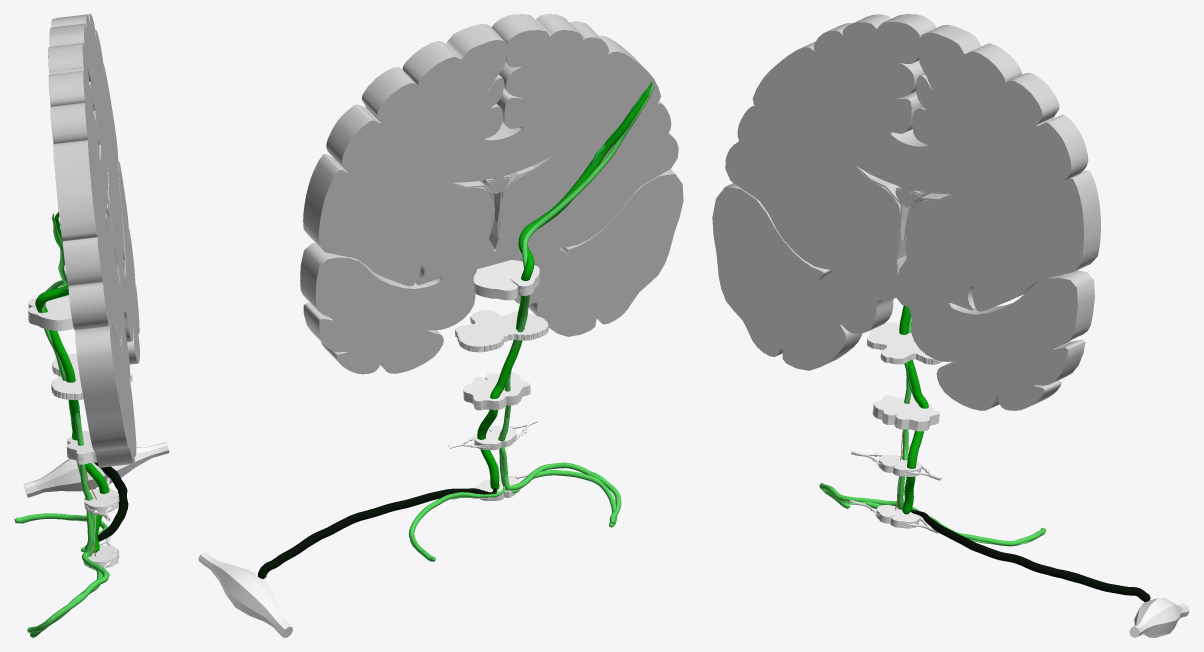
File: Corticospinal Tract.fbx
3 views of the same model, side by side, from view 1: azimuth 30°, elevation 25°; view 2: azimuth 150°, elevation 25°; view 3: azimuth 270°, elevation 25° (orthographic). The views are drawn at different scales.
Parts seen in each view (by area): view 1: Untitled_8_mia_material_x_passes_layer8_BSG_geo, Untitled_8_NeonPulse_geo, Untitled_8_mia_material_x_passes3SG_geo, Untitled_8_mia_material_x_passes_layer5SG_geo (×2), Untitled_8_mia_material_x_passes_layer7SG_geo, Untitled_8_mia_material_x_passes_layer3SG_geo, Untitled_8_mia_material_x_passes_layer4SG_geo, Untitled_8_Toon_geo; view 2: Untitled_8_mia_material_x_passes_layer8_BSG_geo, Untitled_8_NeonPulse_geo, Untitled_8_mia_material_x_passes3SG_geo, Untitled_8_mia_material_x_passes_layer3SG_geo, Untitled_8_mia_material_x_passes_layer7SG_geo, Untitled_8_mia_material_x_passes_layer4SG_geo, Untitled_8_mia_material_x_passes_layer5SG_geo; view 3: Untitled_8_mia_material_x_passes_layer8_BSG_geo, Untitled_8_NeonPulse_geo, Untitled_8_mia_material_x_passes_layer5SG_geo (×2), Untitled_8_mia_material_x_passes_layer3SG_geo, Untitled_8_mia_material_x_passes_layer4SG_geo, Untitled_8_mia_material_x_passes3SG_geo.
Part boxes in pixels (x1,y1,x2,y2): Untitled_8_mia_material_x_passes_layer8_BSG_geo: (48,14,139,467); Untitled_8_NeonPulse_geo: (14,212,128,637); Untitled_8_mia_material_x_passes3SG_geo: (23,442,169,497); Untitled_8_mia_material_x_passes_layer5SG_geo (×2): (83,478,119,571); Untitled_8_mia_material_x_passes_layer7SG_geo: (28,295,73,331); Untitled_8_mia_material_x_passes_layer3SG_geo: (51,353,132,399); Untitled_8_mia_material_x_passes_layer4SG_geo: (66,431,97,464); Untitled_8_Toon_geo: (21,216,112,628); Untitled_8_mia_material_x_passes_layer8_BSG_geo: (300,14,683,374); Untitled_8_NeonPulse_geo: (258,82,654,578); Untitled_8_mia_material_x_passes3SG_geo: (198,552,292,637); Untitled_8_mia_material_x_passes_layer3SG_geo: (455,310,548,352); Untitled_8_mia_material_x_passes_layer7SG_geo: (473,260,539,300); Untitled_8_mia_material_x_passes_layer4SG_geo: (463,372,530,410); Untitled_8_mia_material_x_passes_layer5SG_geo: (448,419,537,450); Untitled_8_mia_material_x_passes_layer8_BSG_geo: (712,14,1100,410); Untitled_8_NeonPulse_geo: (819,305,1150,601); Untitled_8_mia_material_x_passes_layer5SG_geo (×2): (849,451,941,533); Untitled_8_mia_material_x_passes_layer3SG_geo: (867,322,942,364); Untitled_8_mia_material_x_passes_layer4SG_geo: (872,395,939,431); Untitled_8_mia_material_x_passes3SG_geo: (1129,598,1189,637).
Size of the model in its own units: 0.458 by 0.8331 by 0.6532.
